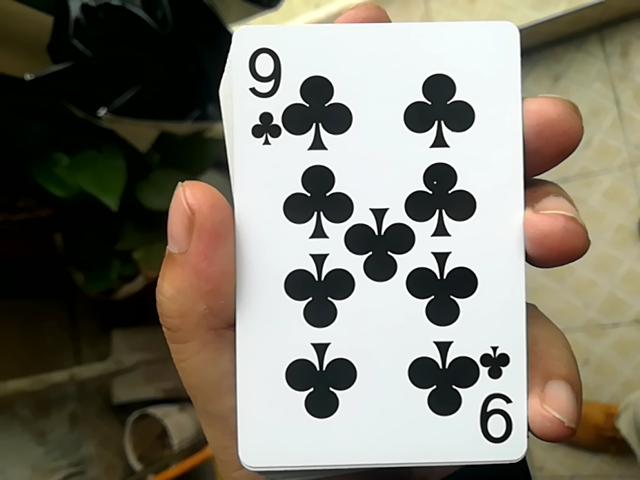mh 9: (211, 8, 521, 470)
